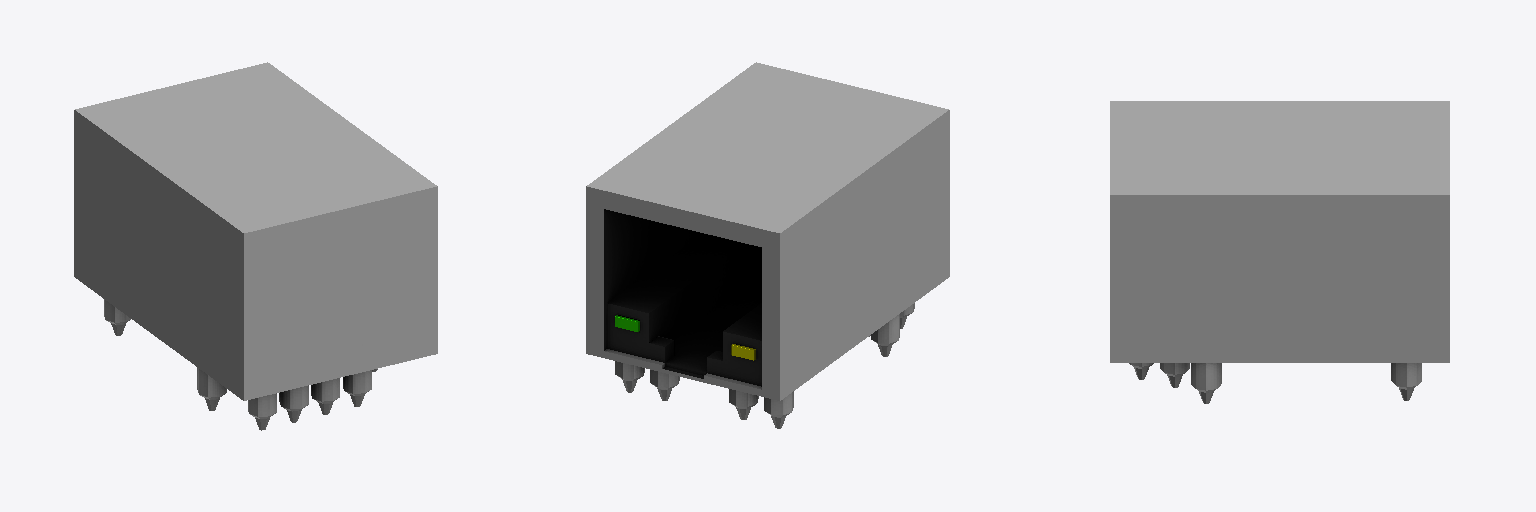
The picture shows the model from 3 angles: view 1: azimuth 30°, elevation 25°; view 2: azimuth 150°, elevation 25°; view 3: azimuth 270°, elevation 25°; orthographic projection.
Visible parts, largest first — view 1: Cube.021_Cube.026; view 2: Cube.021_Cube.026; view 3: Cube.021_Cube.026.
Boxes of the visible parts, x1,y1,x2,y2 form: Cube.021_Cube.026: [74, 62, 437, 430]; Cube.021_Cube.026: [586, 62, 949, 428]; Cube.021_Cube.026: [1110, 101, 1449, 403].
Bounding box in the file's own units: 0.0667 × 0.0711 × 0.101.
1 materials, 1 textured.